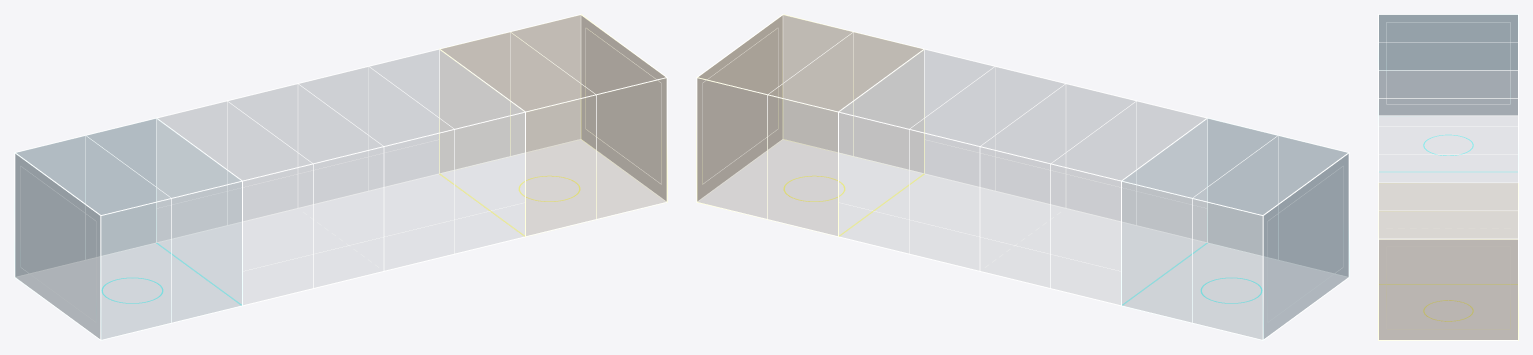
Rendered from A01_arena.glb.
3 renders of one model, left to right at view 1: azimuth 30°, elevation 25°; view 2: azimuth 150°, elevation 25°; view 3: azimuth 270°, elevation 25°, orthographic. The views are drawn at different scales.
Parts seen in each view (by area): view 1: arena; view 2: arena; view 3: arena.
Boxes of the visible parts, bbox=[...] form: arena: bbox=[14, 14, 667, 340]; arena: bbox=[696, 14, 1349, 340]; arena: bbox=[1378, 14, 1518, 340].
Size of the model in its own units: 19.03 by 4.03 by 5.03.
